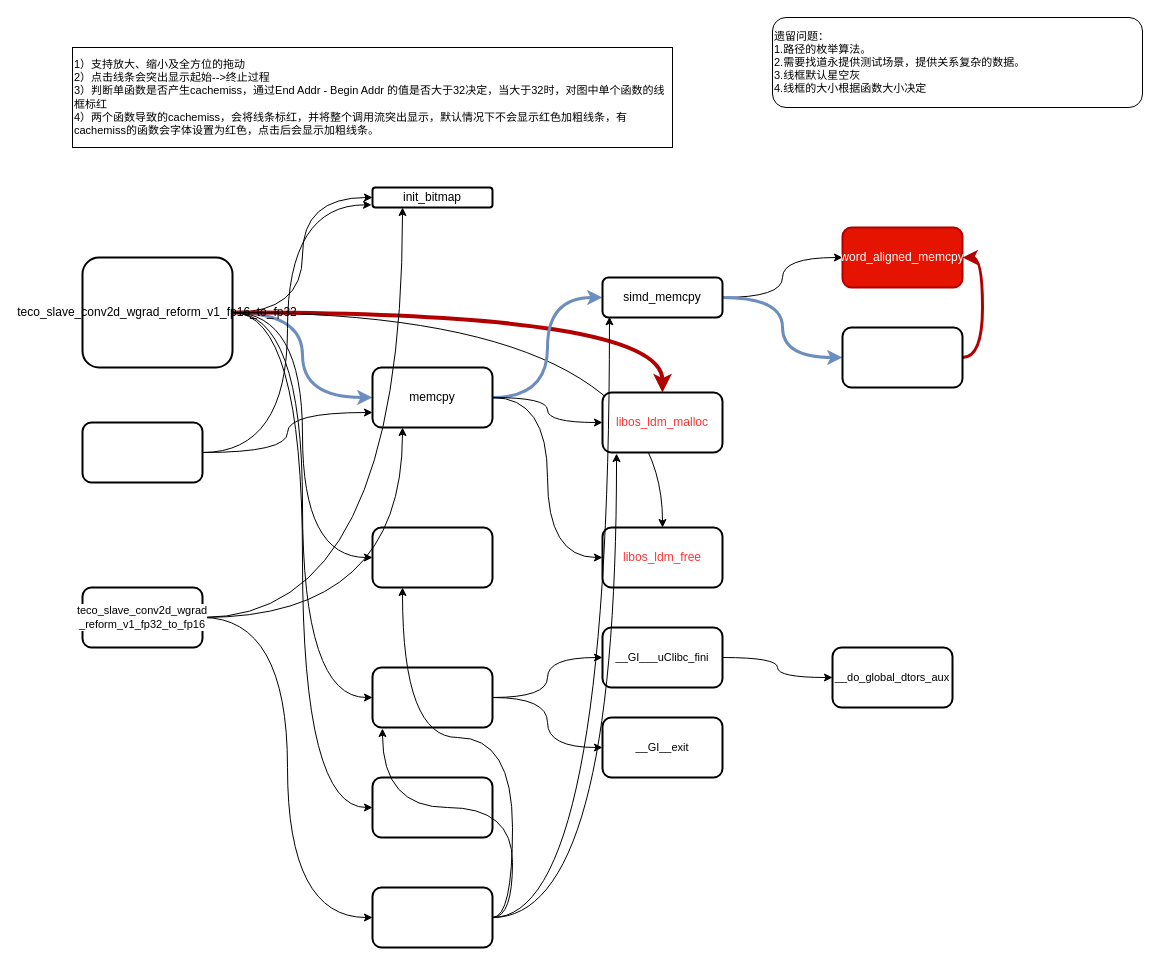
Image size: 1160x966. Some labels were removed from this diagram. The shapes that lost their labels are listed below. From the top down, each one's centre as x and y in pixels, then its label:
pixel 902 357: word_memcpy
pixel 142 452: teco_slave_conv2d_wgrad _reform_v1_fp16_to_fp16
pixel 432 557: memset
pixel 432 697: exit
pixel 432 807: ReduceSumAcrossThreads
pixel 432 917: conv2DBackwardWgradReformV1
